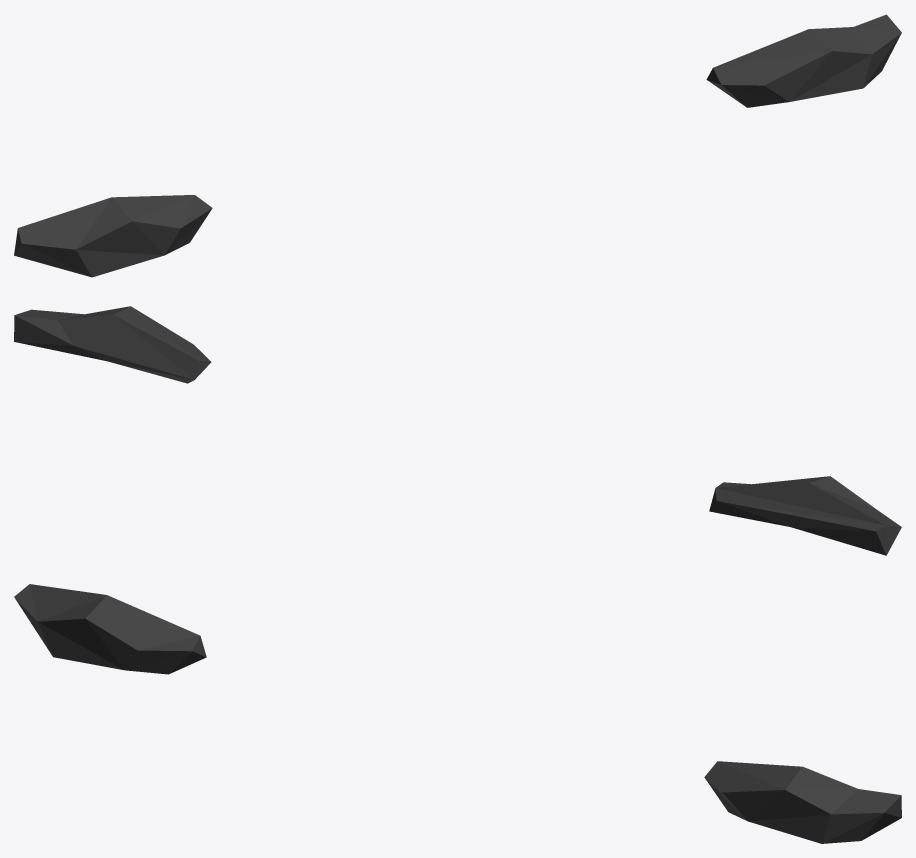
File: skel_FL_navicular.glb
3 views of the same model, one above another, from view 1: azimuth 30°, elevation 25°; view 2: azimuth 150°, elevation 25°; view 3: azimuth 330°, elevation 25° (orthographic).
Parts seen in each view (by area): view 1: skel_FL_navicular; view 2: skel_FL_navicular; view 3: skel_FL_navicular.
Boxes of the visible parts, x1,y1,x2,y2 form: skel_FL_navicular: (14, 14, 901, 277); skel_FL_navicular: (14, 306, 901, 555); skel_FL_navicular: (14, 584, 901, 843).
Bounding box in the file's own units: 0.00415 × 0.000267 × 0.000277.
1 material, 1 textured.
